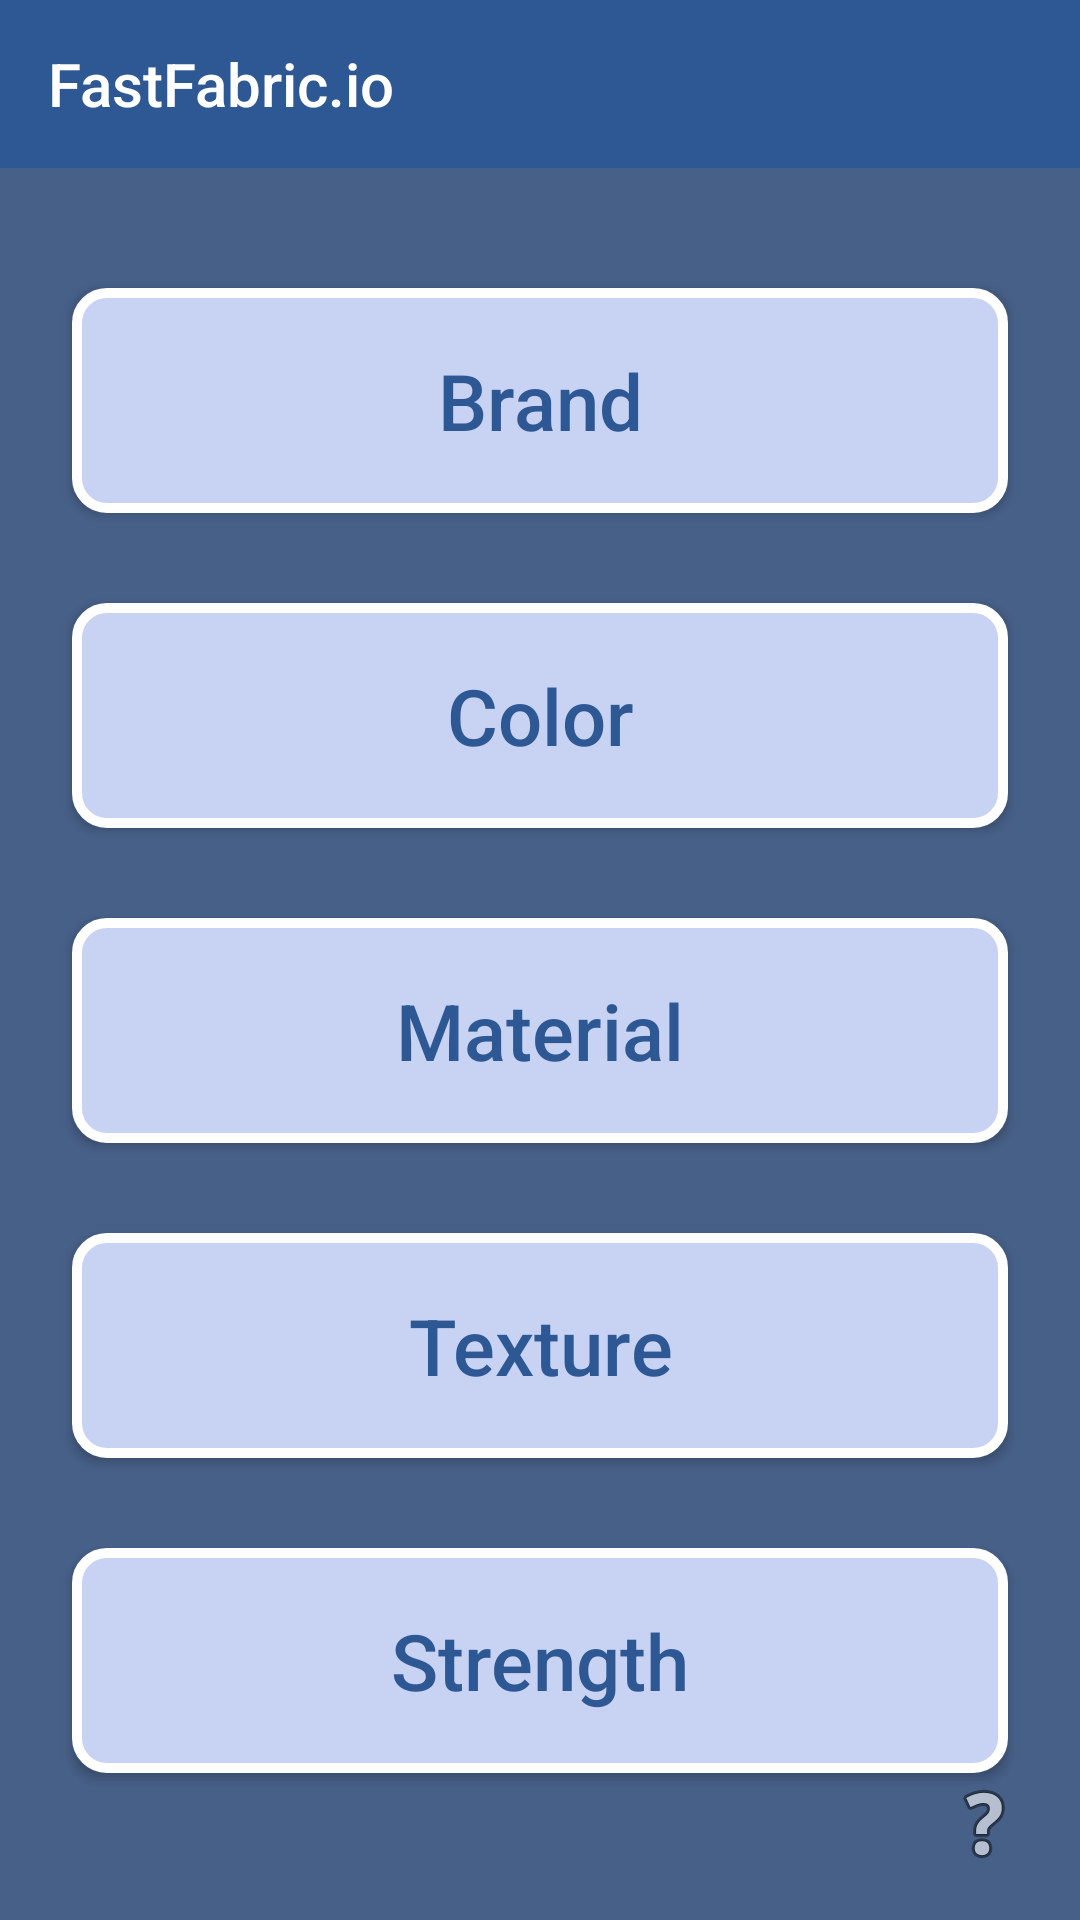

Named icons in this screenshot (1080 × 1920) and their centers, point (x, y):
help: point (984, 1824)
